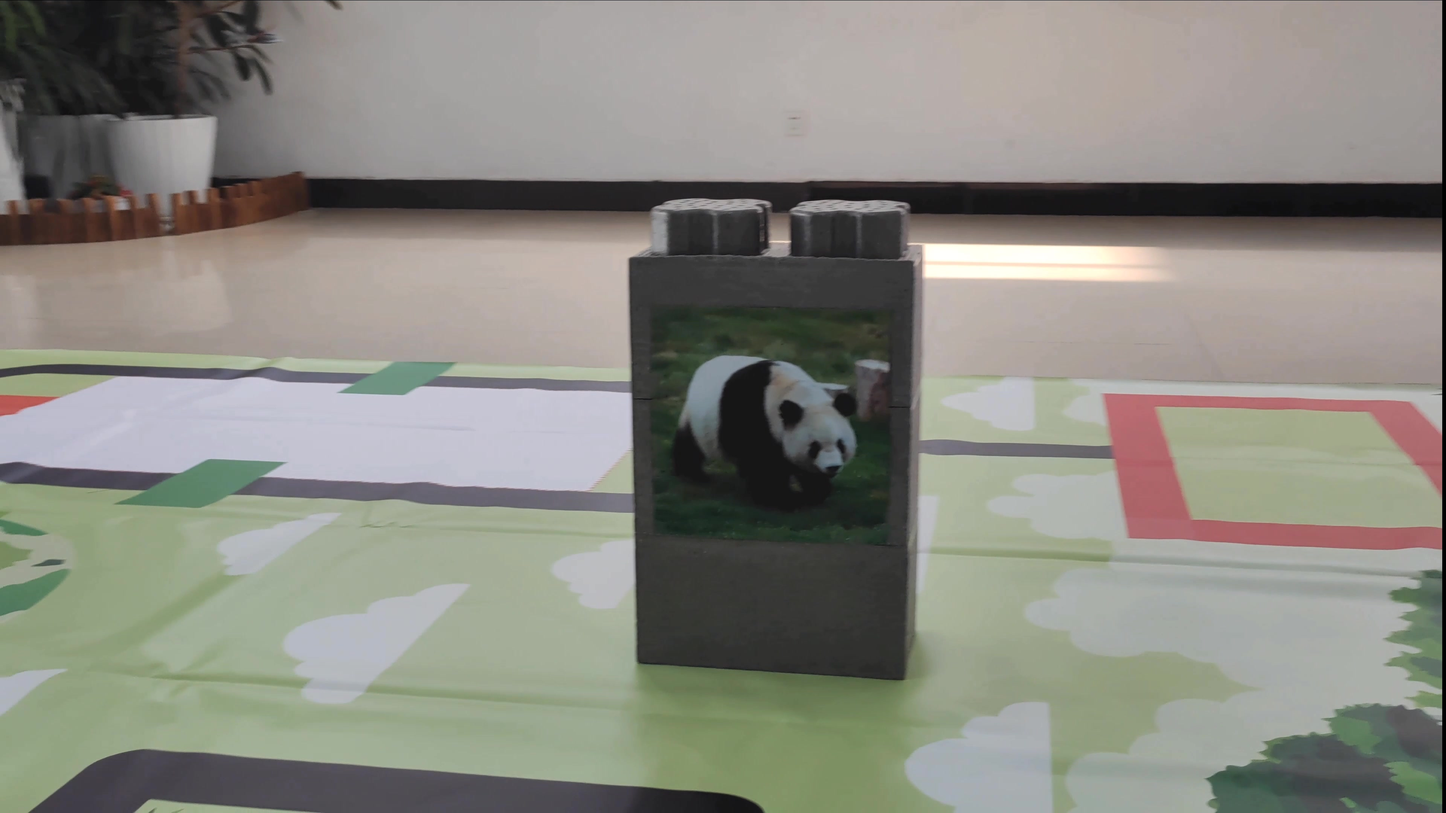panda: (656, 333, 880, 531)
